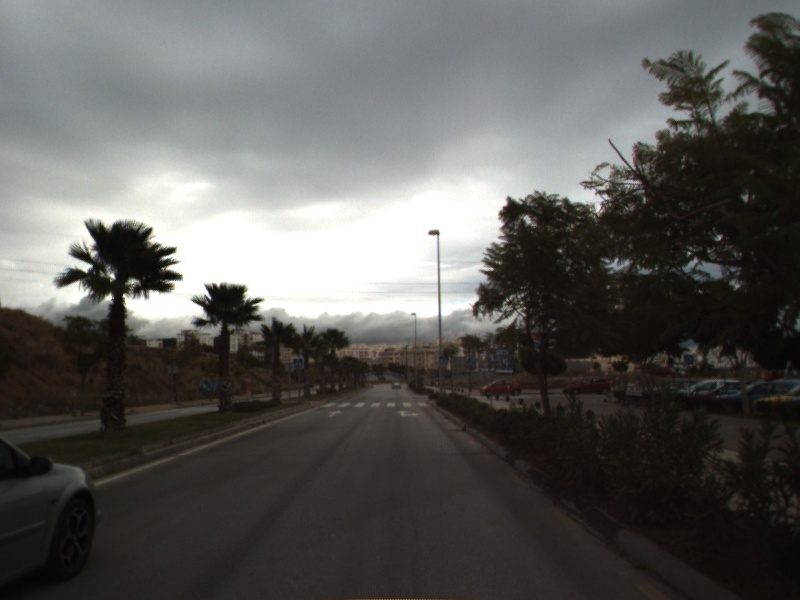STRAIGHT: (326, 408, 345, 419)
STRAIGHT_RIGHT: (394, 407, 421, 419)
